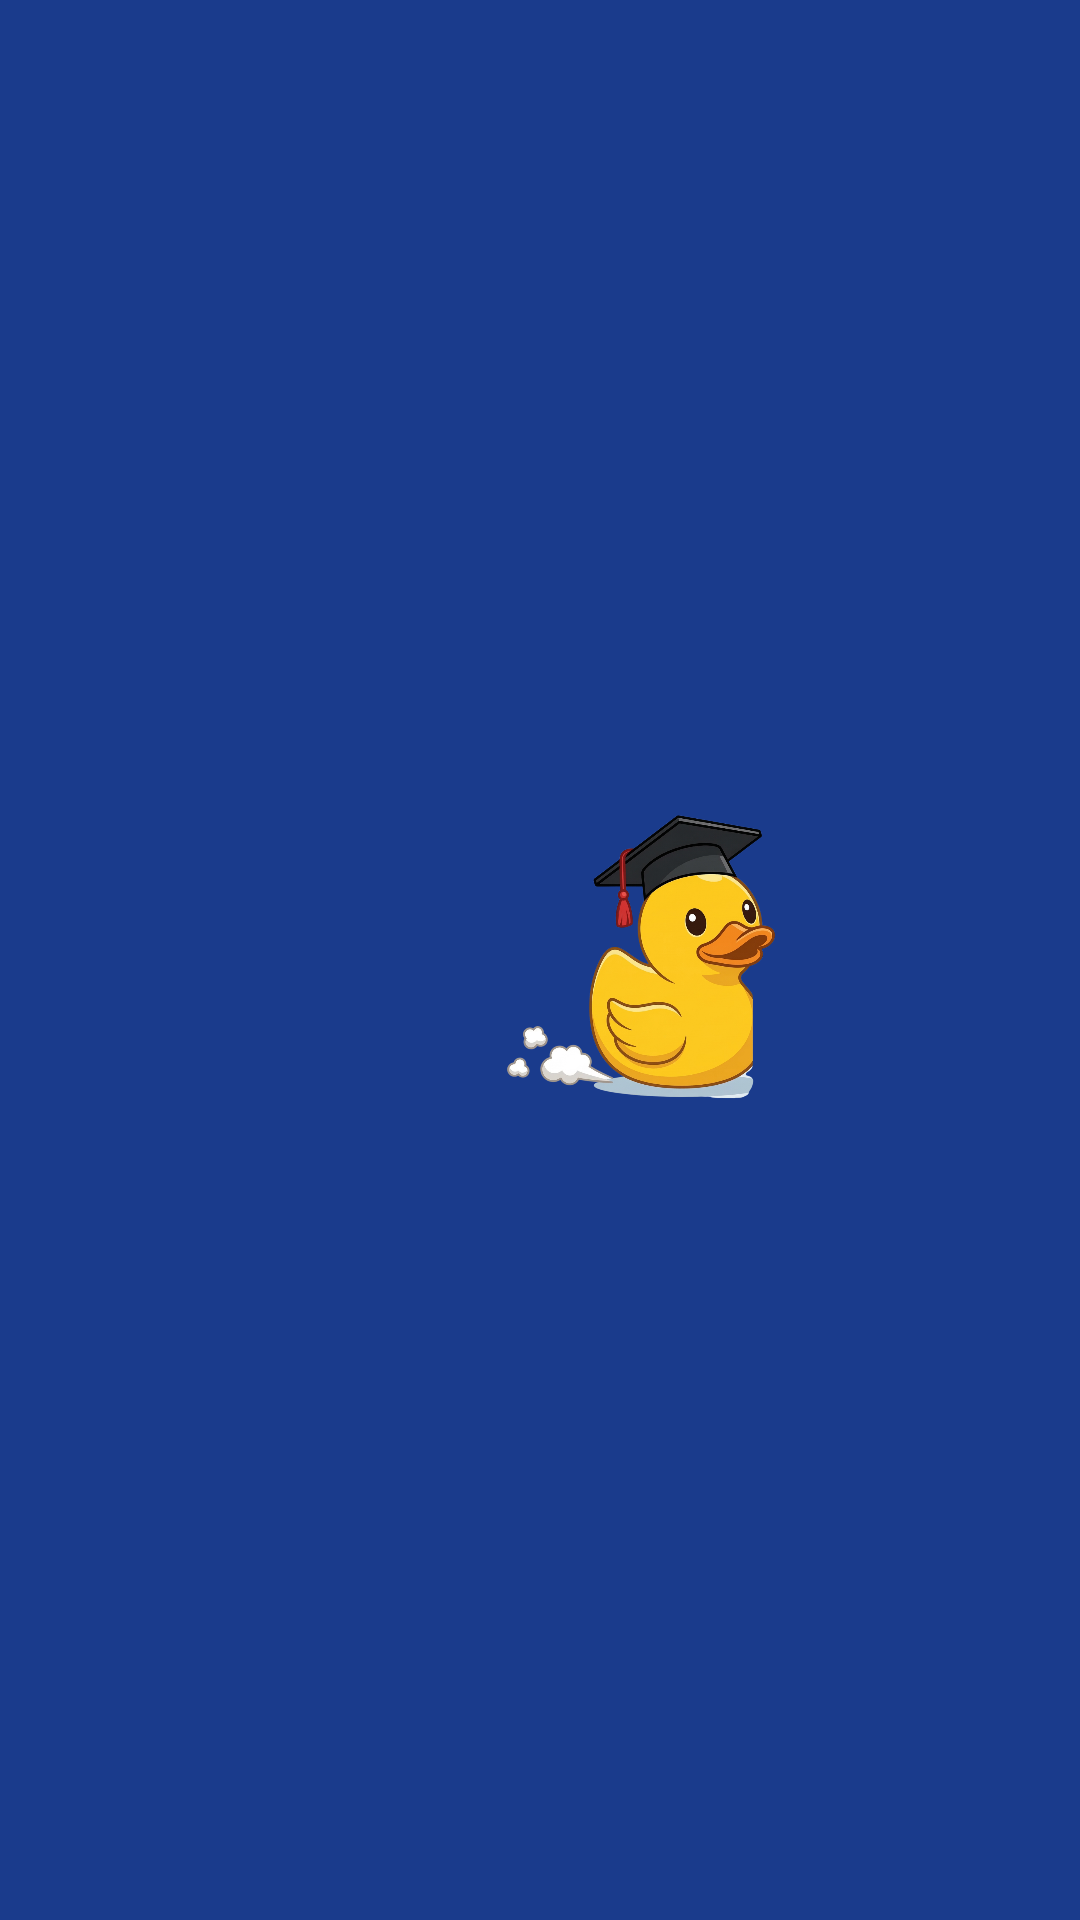

Named icons in this screenshot (1080px×1920px) and their centers, (x=x, y=y):
duck walking: (x=641, y=956)
